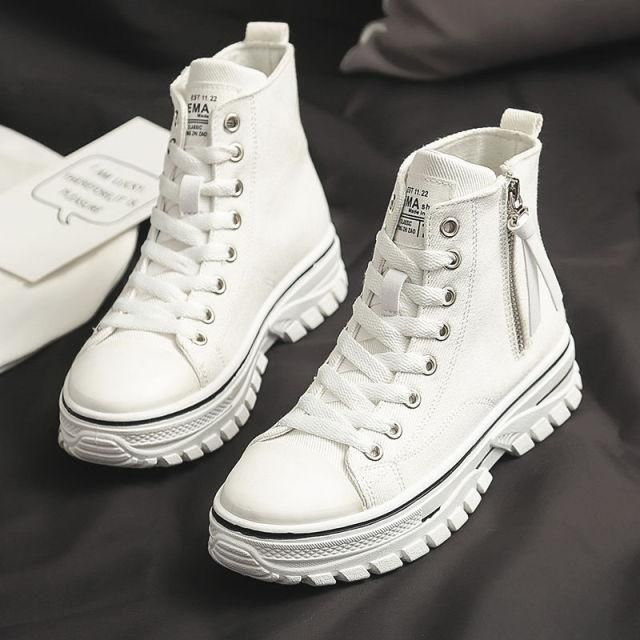cuero: (60, 20, 581, 586)
